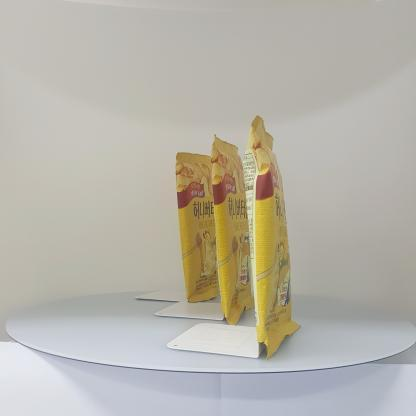Plastic Packaging: (169, 107, 319, 369)
